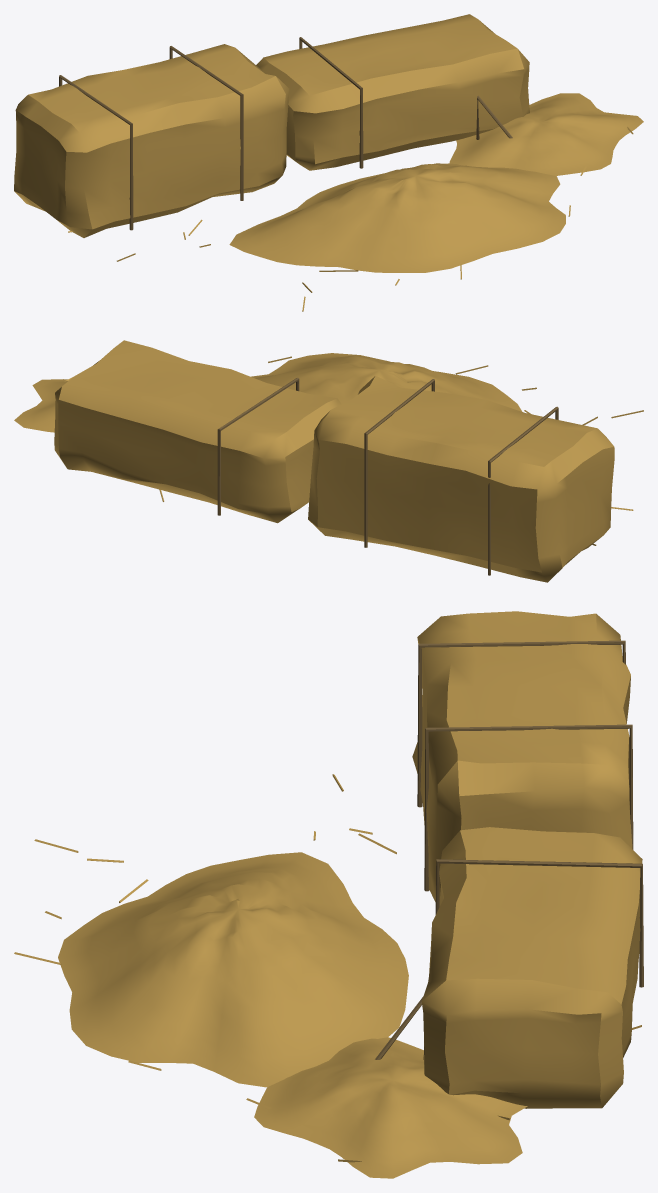
Rendered from heuballen_kaputt.glb.
The picture shows the model from 3 angles, top to bottom: view 1: azimuth 30°, elevation 25°; view 2: azimuth 150°, elevation 25°; view 3: azimuth 270°, elevation 25°; orthographic projection. The views are drawn at different scales.
Parts seen in each view (by area): view 1: heuballen_kaputt; view 2: heuballen_kaputt; view 3: heuballen_kaputt.
Part boxes in pixels (x1=…): heuballen_kaputt: x1=14, y1=14, x2=643, y2=311; heuballen_kaputt: x1=14, y1=340, x2=643, y2=582; heuballen_kaputt: x1=14, y1=611, x2=643, y2=1178.
Size of the model in its own units: 2.23 by 0.4252 by 1.43.
